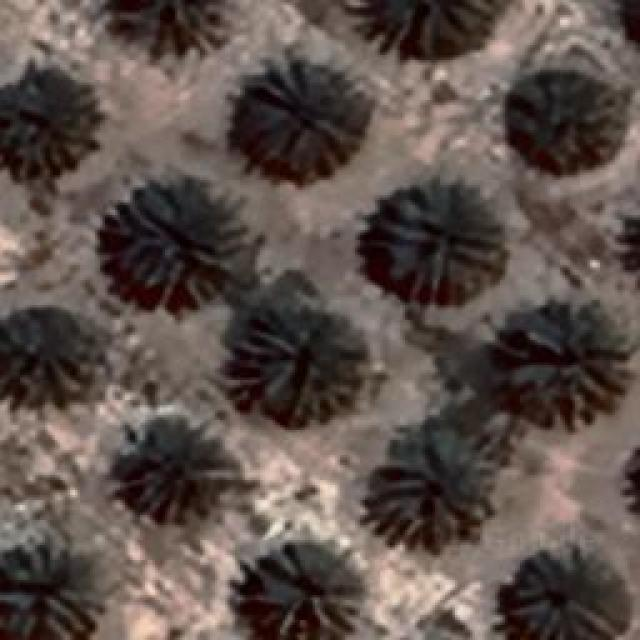PalmTree: (118, 180, 258, 308), (364, 425, 498, 550), (238, 300, 368, 425), (375, 180, 503, 305), (240, 52, 365, 178), (505, 300, 630, 425), (2, 55, 106, 185), (115, 417, 235, 525), (508, 544, 628, 638), (245, 544, 360, 638), (508, 75, 620, 170), (0, 544, 95, 638), (0, 305, 88, 405), (112, 0, 238, 55), (372, 0, 497, 52)
